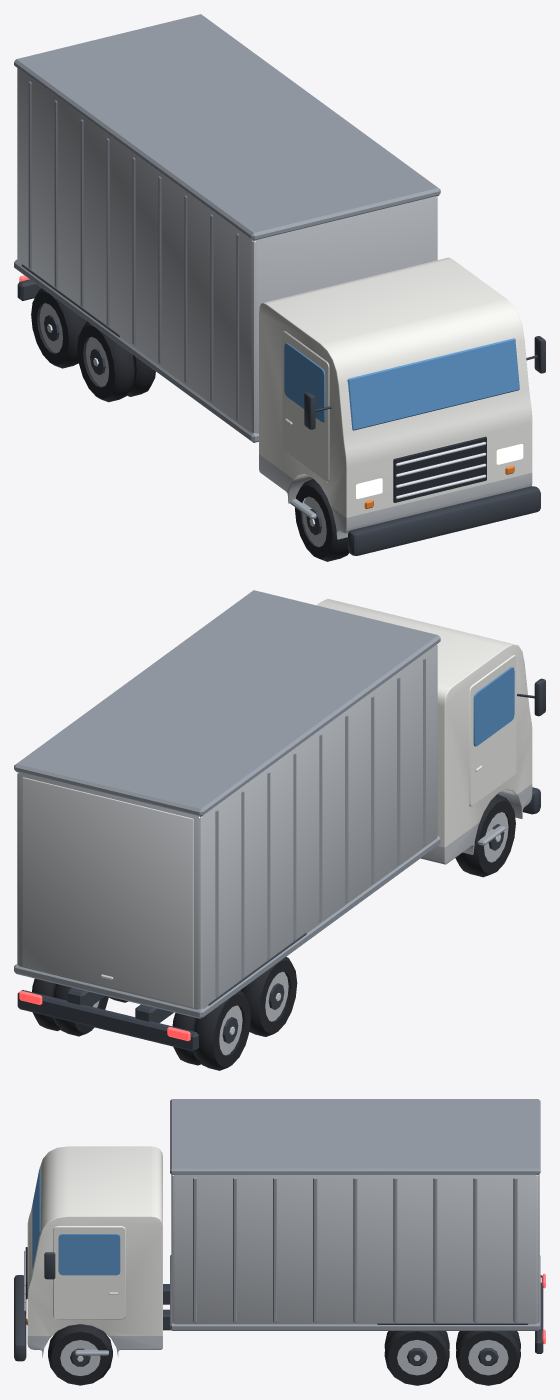
Rendered from caminhao_bau.glb.
3 views of the same model, one above another, from view 1: azimuth 30°, elevation 25°; view 2: azimuth 150°, elevation 25°; view 3: azimuth 270°, elevation 25° (orthographic). The views are drawn at different scales.
Parts seen in each view (by area): view 1: caminhao_bau, porta_1, roda_3, roda_5, roda_1; view 2: caminhao_bau, porta_bau_1, porta_1, roda_5, roda_3, roda_1, roda_6; view 3: caminhao_bau, porta_2, roda_4, roda_6, roda_2.
Part boxes in pixels (x1=…): caminhao_bau: x1=14, y1=14, x2=545, y2=555; porta_1: x1=282, y1=331, x2=329, y2=482; roda_3: x1=77, y1=322, x2=155, y2=402; roda_5: x1=31, y1=288, x2=87, y2=368; roda_1: x1=295, y1=479, x2=349, y2=561; caminhao_bau: x1=14, y1=590, x2=545, y2=1051; porta_bau_1: x1=22, y1=777, x2=193, y2=1007; porta_1: x1=469, y1=655, x2=516, y2=806; roda_5: x1=172, y1=990, x2=250, y2=1070; roda_3: x1=240, y1=957, x2=297, y2=1036; roda_1: x1=455, y1=794, x2=515, y2=877; roda_6: x1=32, y1=978, x2=108, y2=1036; caminhao_bau: x1=14, y1=1099, x2=545, y2=1361; porta_2: x1=53, y1=1226, x2=125, y2=1319; roda_4: x1=384, y1=1331, x2=449, y2=1385; roda_6: x1=456, y1=1331, x2=520, y2=1385; roda_2: x1=48, y1=1324, x2=112, y2=1385.
Size of the model in its own units: 3.11 by 3.57 by 7.85.
Materials: 4 (1 with a texture image).
